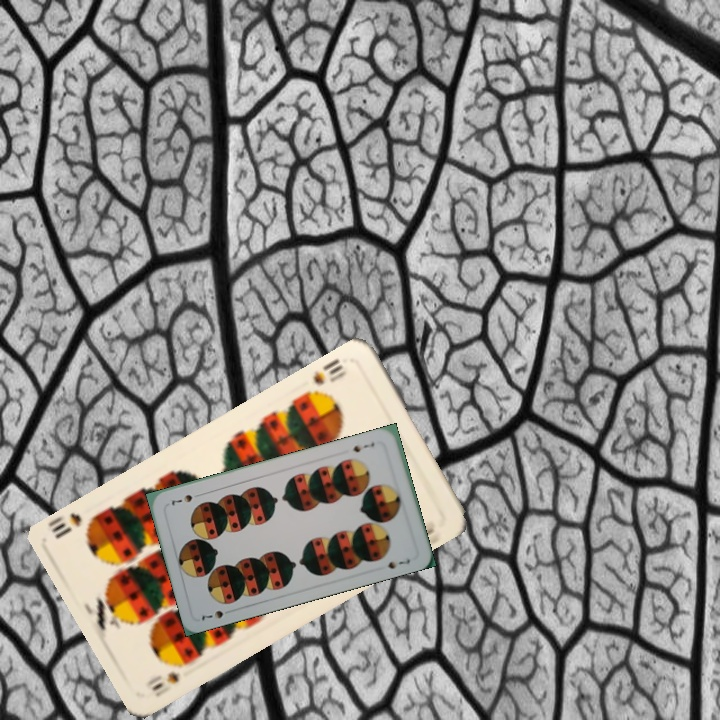S10: (309, 354, 350, 388), (148, 667, 182, 700)
S7: (197, 606, 226, 624), (349, 437, 377, 455)
